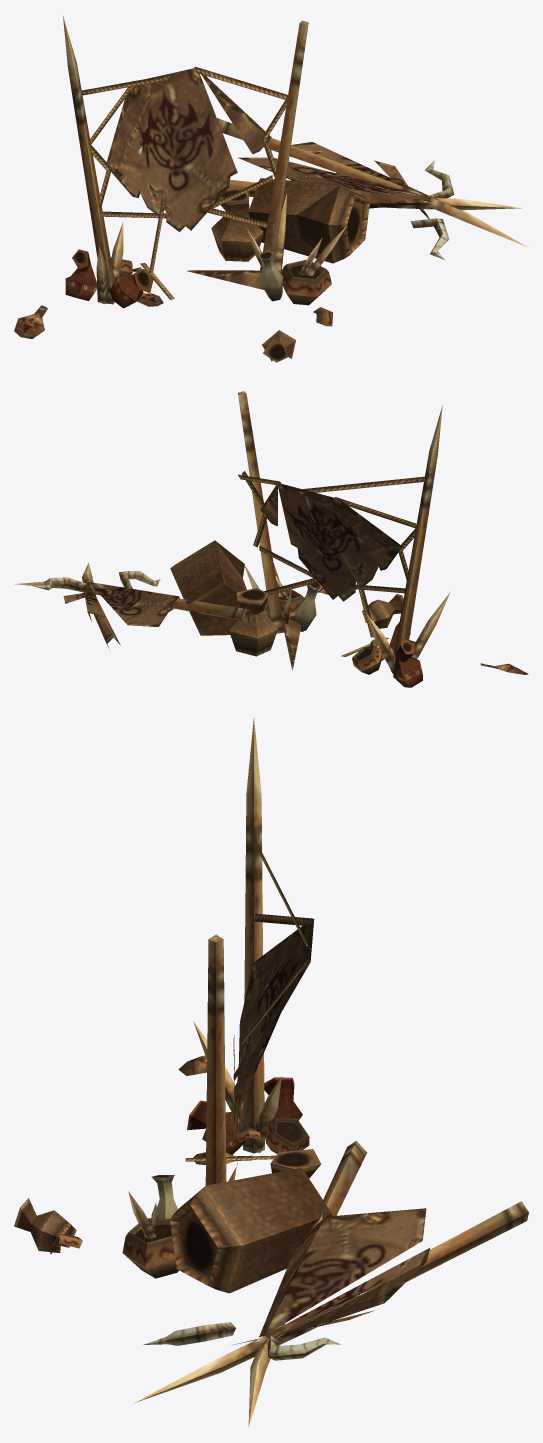
The model's file is 7001_Item_bu_3.FBX.
3 renders of one model, top to bottom at view 1: azimuth 30°, elevation 25°; view 2: azimuth 150°, elevation 25°; view 3: azimuth 270°, elevation 25°, orthographic. The views are drawn at different scales.
Parts seen in each view (by area): view 1: 7001_Item_bu_3; view 2: 7001_Item_bu_3; view 3: 7001_Item_bu_3.
Part boxes in pixels (bbox=[...]): 7001_Item_bu_3: bbox=[14, 16, 526, 362]; 7001_Item_bu_3: bbox=[15, 391, 528, 687]; 7001_Item_bu_3: bbox=[14, 718, 528, 1427].
Bounding box in the file's own units: 943 × 557 × 592.
